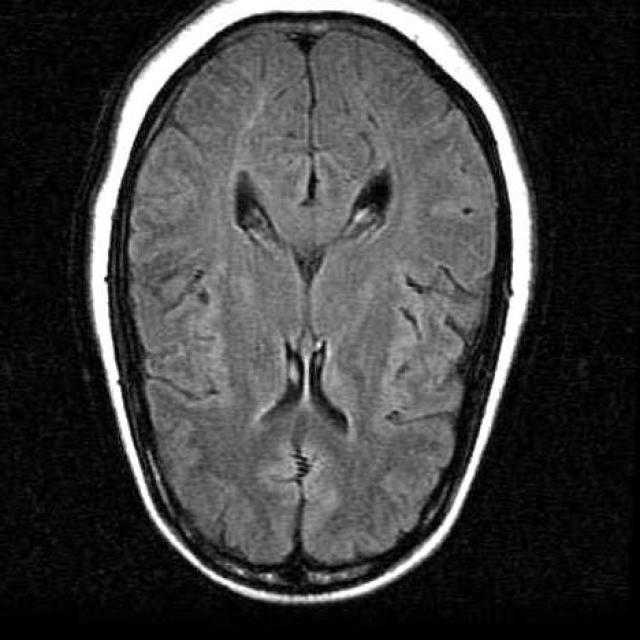No_Tumor: (89, 0, 532, 603)
